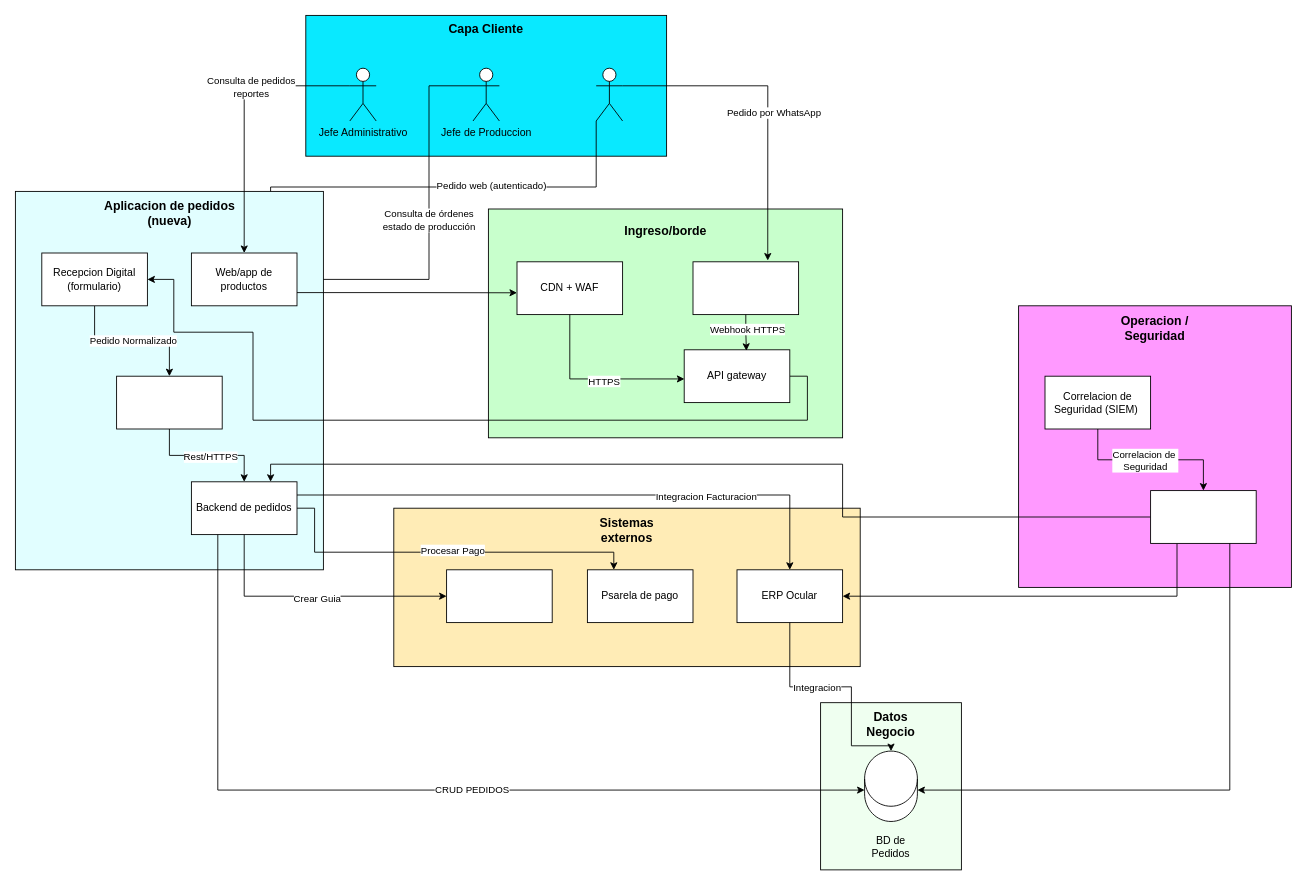
This 1307x885 diagram has some shape labels left out. The shapes that lost their labels are listed below. From the top down, each one's centre as x and y in pixels, then its label:
At (609,94): "Cliente Optica".
At (745,288): "Whatsapp + OCR".
At (169,402): "orquestador / integración".
At (1203,516): "Monitoreo Basico (metricas / logs)".
At (499,596): "Proovedor de mensajeria".
